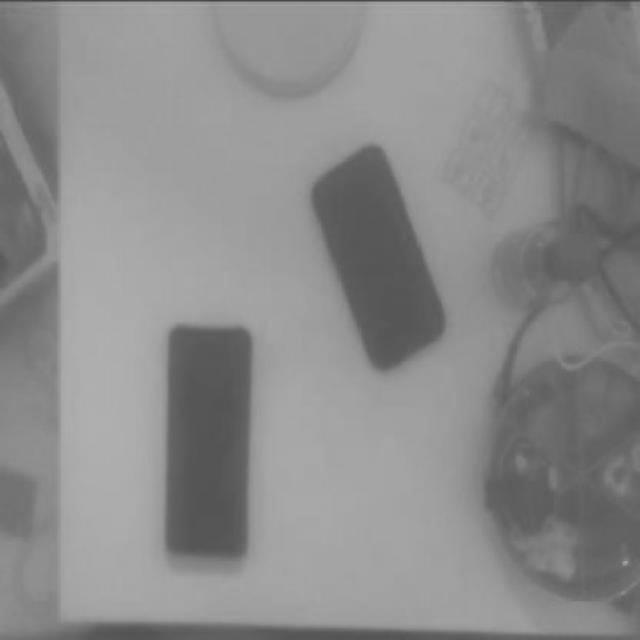fake: (310, 138, 446, 374), (172, 322, 248, 556)
